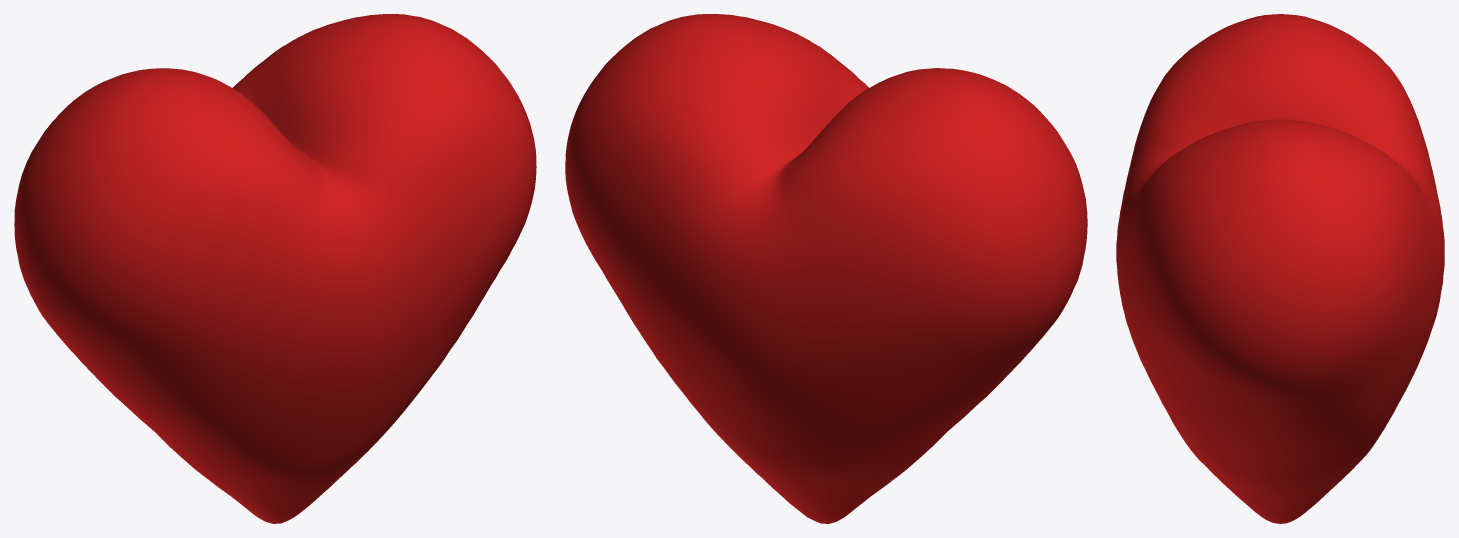
3 views of the same model, side by side, from view 1: azimuth 30°, elevation 25°; view 2: azimuth 150°, elevation 25°; view 3: azimuth 270°, elevation 25° (orthographic). The views are drawn at different scales.
Visible parts, largest first — view 1: Cube; view 2: Cube; view 3: Cube.
Boxes of the visible parts, box(x1,y1,x2,y2) form: Cube: box(14, 14, 536, 523); Cube: box(565, 14, 1087, 523); Cube: box(1116, 14, 1444, 523).
Bounding box in the file's own units: 8.15 × 7.55 × 5.06.
